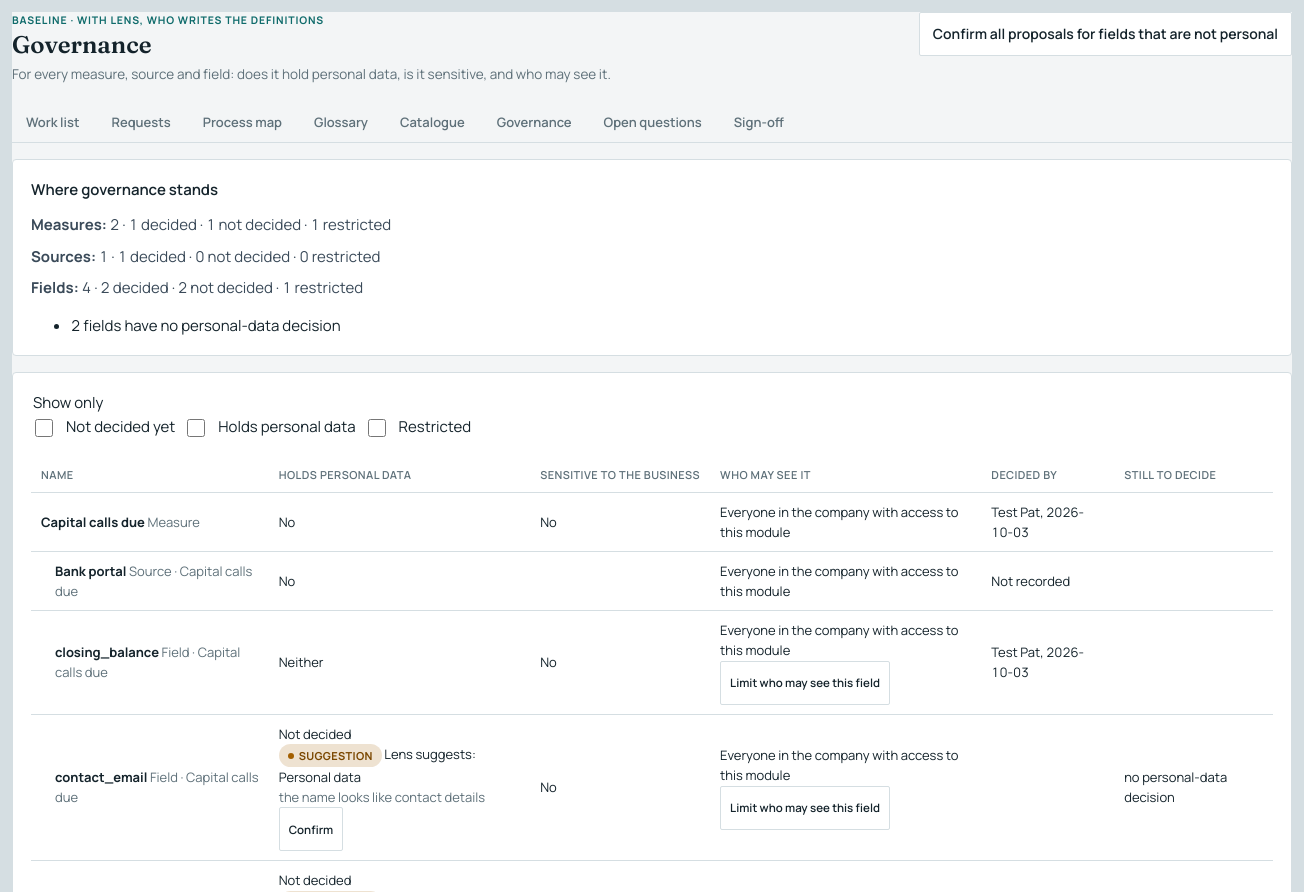
Test: proposals and limiting a field › labels Lens's proposal as a suggestion and confirms one field on request
Expected: the text "Suggestion" is shown, [279,744,382,767]
Step 1. Click the button "Confirm" → (311, 830), box [279,808,343,852]
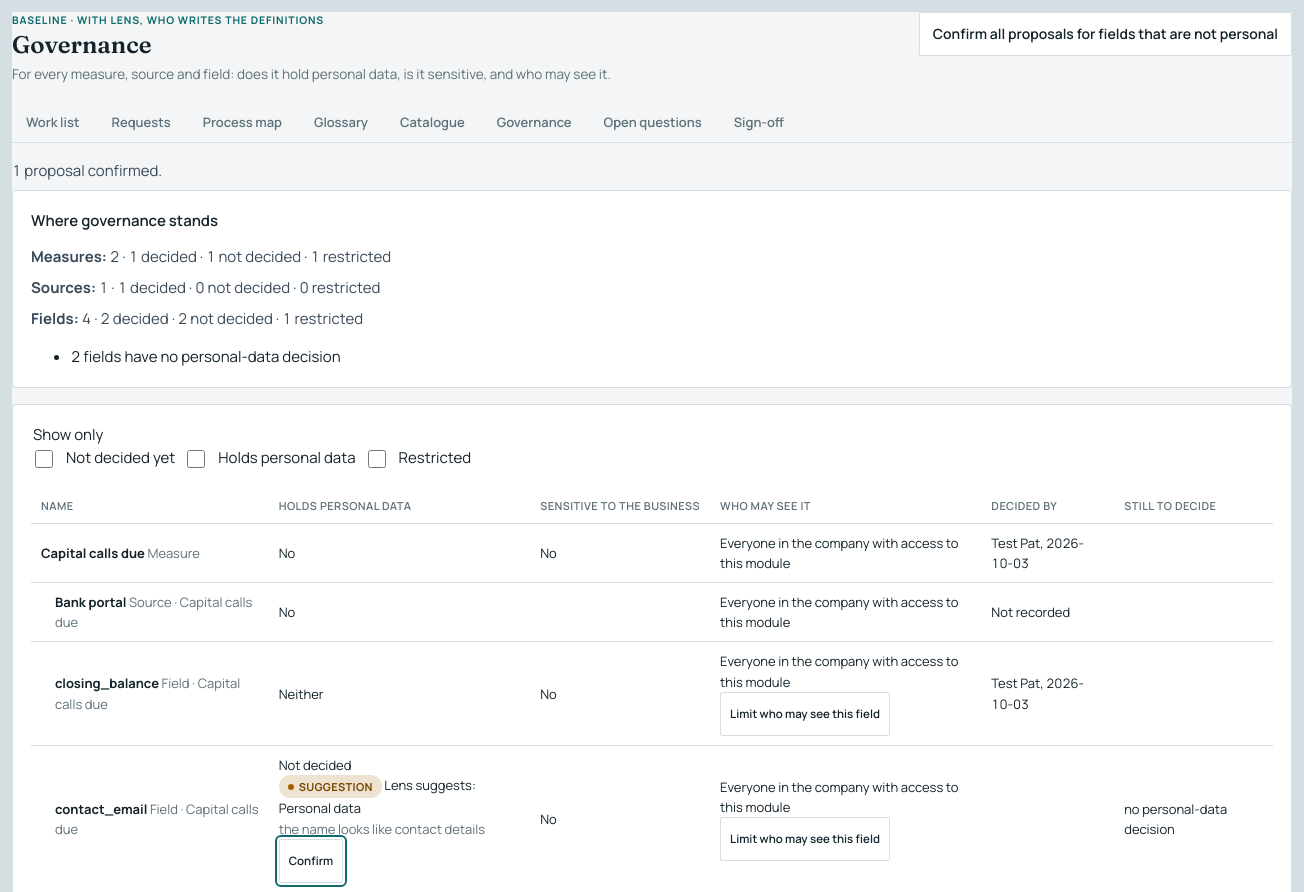
Expected: the text "1 proposal confirmed." is shown, [12,160,162,181]
